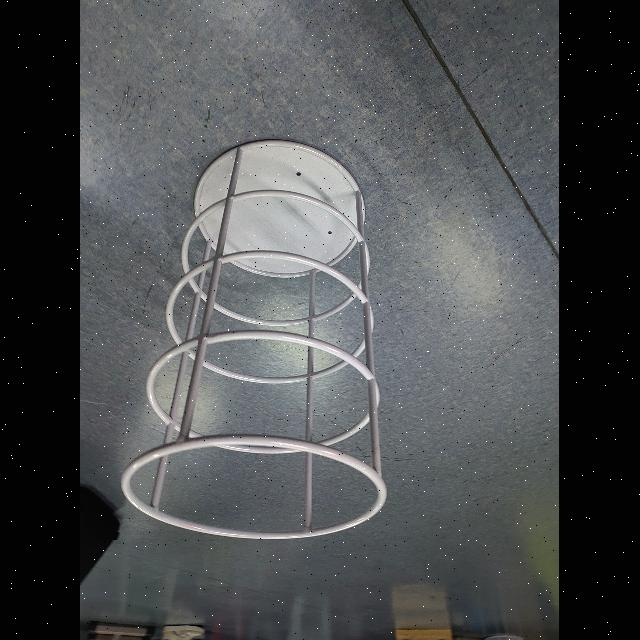S: (118, 135, 392, 542)
